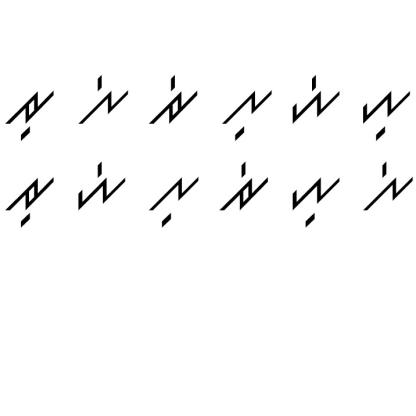le: (75, 73, 131, 127), (360, 159, 413, 216)
lu: (144, 172, 204, 232), (218, 85, 274, 143)
re: (218, 158, 274, 215), (149, 69, 203, 127)
ru: (5, 83, 59, 145), (3, 172, 57, 227)
ye: (286, 74, 344, 126), (74, 160, 127, 215)
yu: (286, 168, 342, 230), (357, 83, 412, 141)
